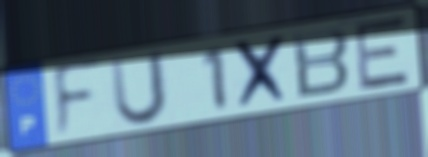1: (200, 45, 232, 112)
B: (289, 26, 352, 102)
E: (354, 13, 413, 94)
F: (51, 56, 106, 145)
U: (107, 48, 170, 129)
X: (231, 31, 294, 114)
